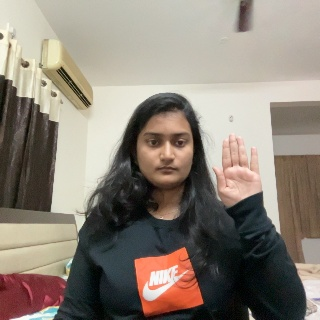Face: (133, 102, 196, 195)
Hello: (213, 130, 269, 224)
